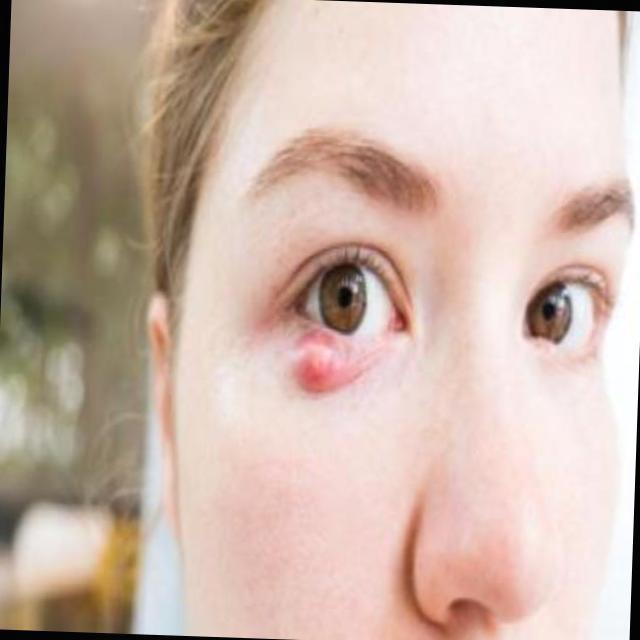Stye: (250, 303, 379, 415)
